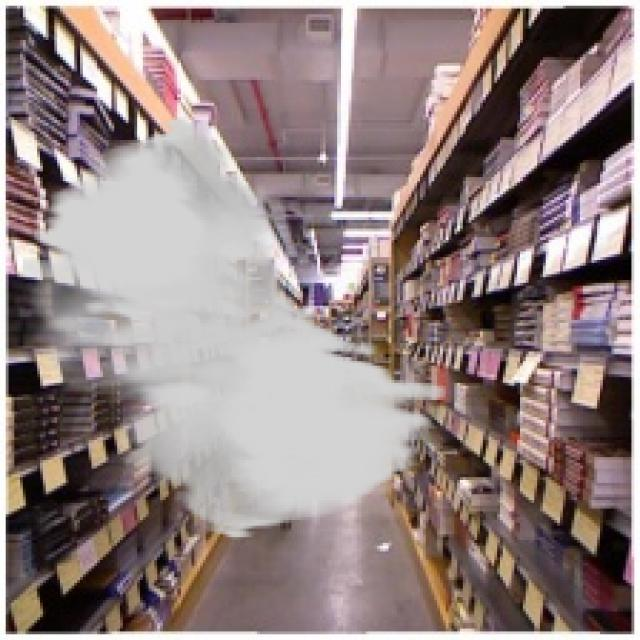smoke: (20, 114, 446, 540)
